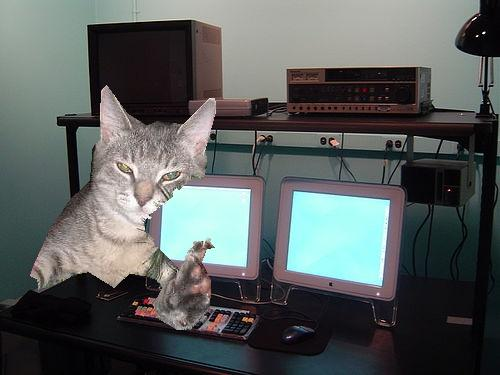tampered: (31, 86, 216, 330)
